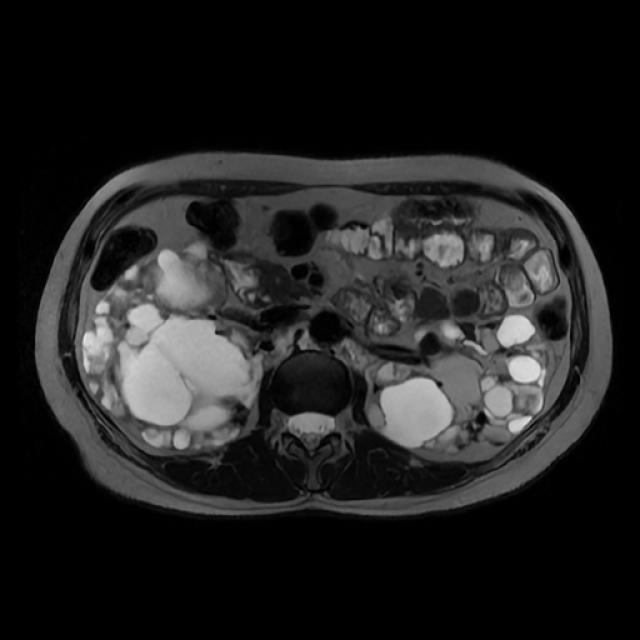sag: (82, 237, 265, 454)
sol: (367, 312, 550, 457)
